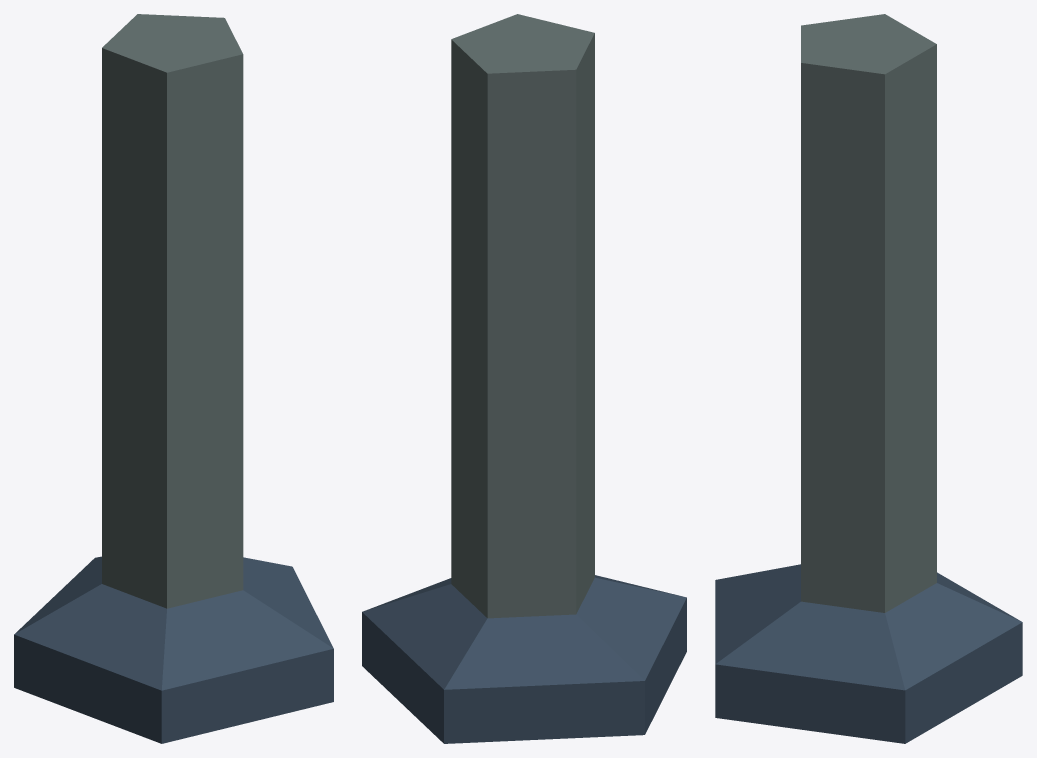
The model's file is Environment_Pipe_Base.fbx.
3 views of the same model, side by side, from view 1: azimuth 30°, elevation 25°; view 2: azimuth 150°, elevation 25°; view 3: azimuth 270°, elevation 25° (orthographic).
Visible parts, largest first — view 1: Pipe_Base; view 2: Pipe_Base; view 3: Pipe_Base.
Boxes of the visible parts, <box> form: Pipe_Base: <box>14,14,333,743</box>; Pipe_Base: <box>362,14,686,743</box>; Pipe_Base: <box>715,14,1022,743</box>.
Bounding box in the file's own units: 430 × 928 × 409.
